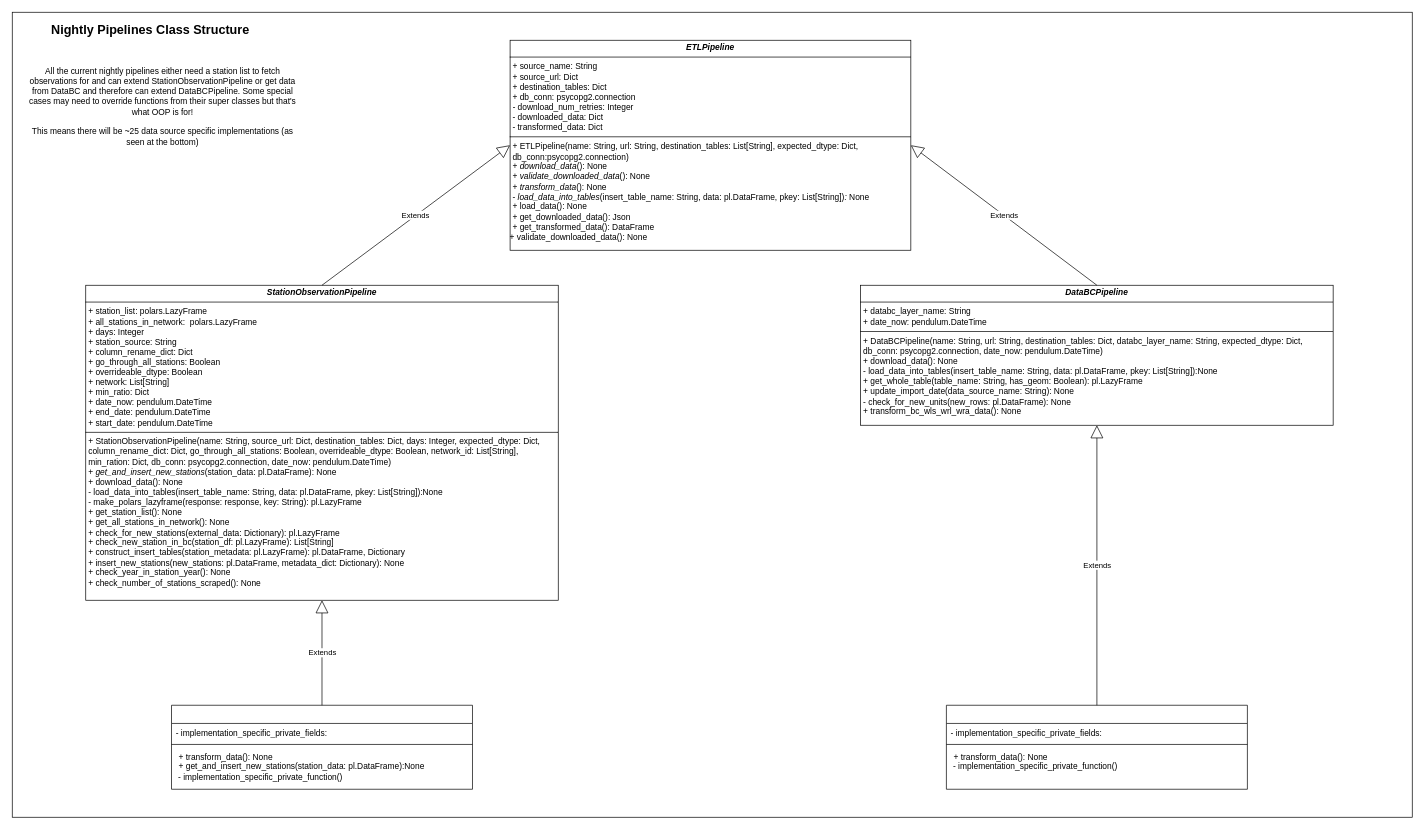
This 1425x830 diagram has some shape labels left out. The box of each missing label's shape, as (x1, y1, x2, y2) in pixels:
< Nightly Data Source Name> Pipeline: (946, 705, 1247, 789)
<Nightly Data Source Name>Pipeline: (171, 705, 472, 789)
